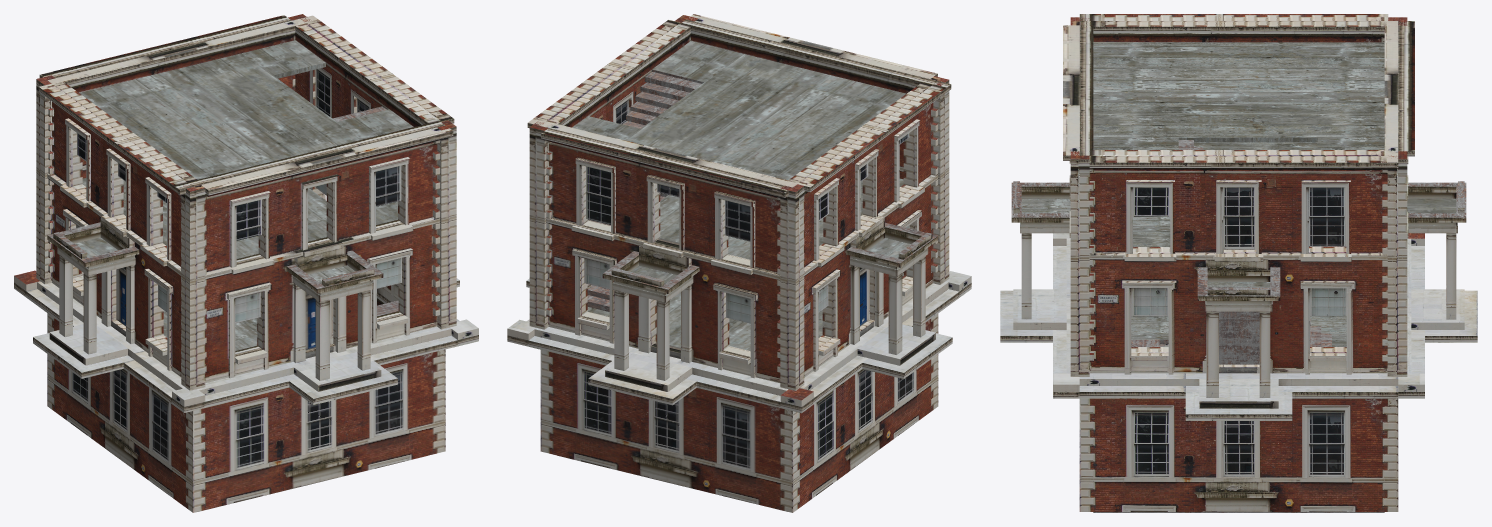
The model's file is BagBuilding13High.fbx.
The picture shows the model from 3 angles, left to right: view 1: azimuth 30°, elevation 25°; view 2: azimuth 150°, elevation 25°; view 3: azimuth 270°, elevation 25°; orthographic projection. The views are drawn at different scales.
Visible parts, largest first — view 1: main300, roof300, marble300, stairsfloor300; view 2: main300, roof300, marble300, stairsfloor300; view 3: main300, roof300, marble300, stairsfloor300.
Boxes of the visible parts, <box> form: main300: <box>14,14,478,512</box>; roof300: <box>75,40,413,350</box>; marble300: <box>26,278,478,401</box>; stairsfloor300: <box>47,106,427,511</box>; main300: <box>507,14,971,512</box>; roof300: <box>572,41,910,351</box>; marble300: <box>508,271,970,401</box>; stairsfloor300: <box>559,69,937,511</box>; main300: <box>1000,14,1477,511</box>; roof300: <box>1020,42,1457,346</box>; marble300: <box>1000,233,1477,414</box>; stairsfloor300: <box>1011,140,1466,512</box>.
Bounding box in the file's own units: 30.48 × 25.57 × 30.48.
